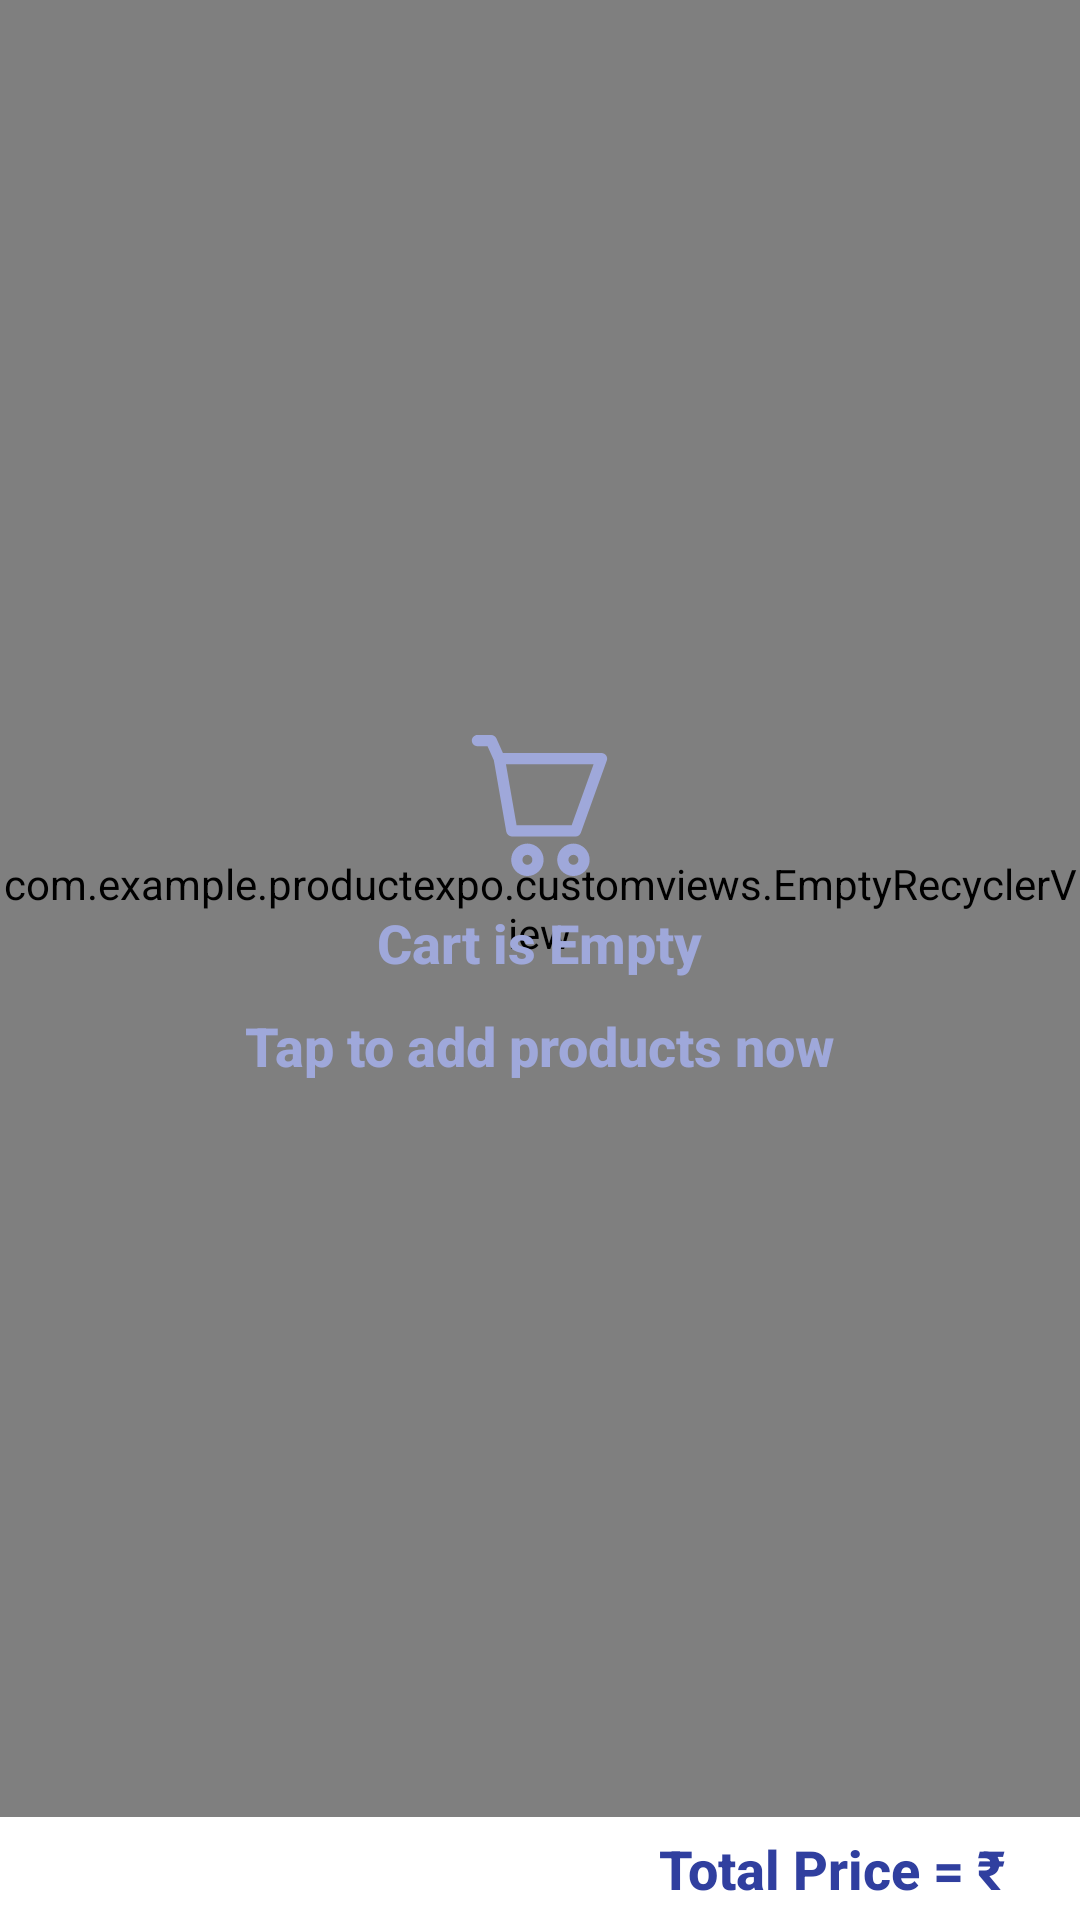

Where to tap for icons on this 1080w x 1920h app screen, as (x,y):
empty shopping cart: (539,805)
